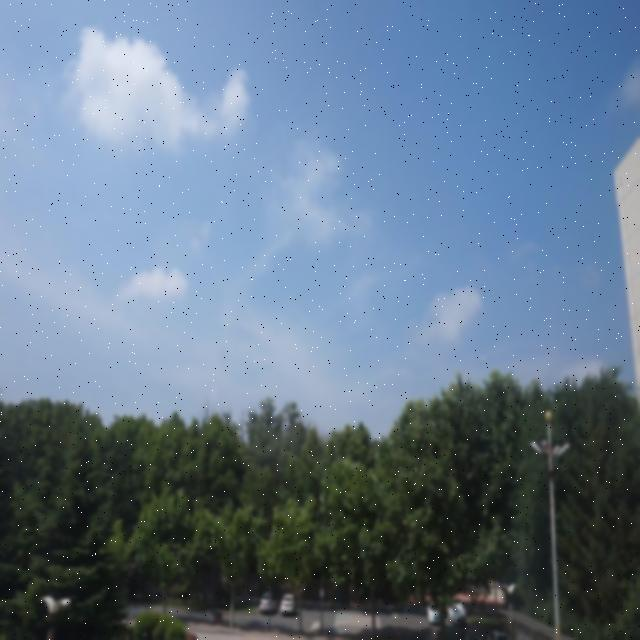UAV: (480, 356, 487, 362)
